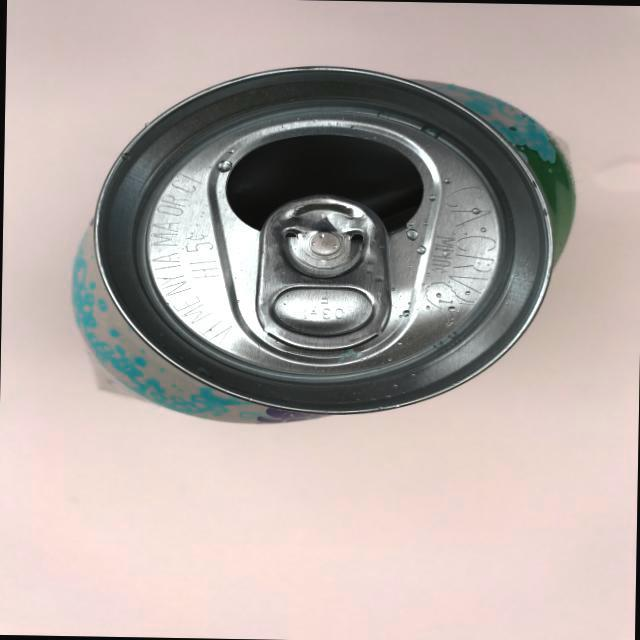metal: (79, 54, 569, 430)
